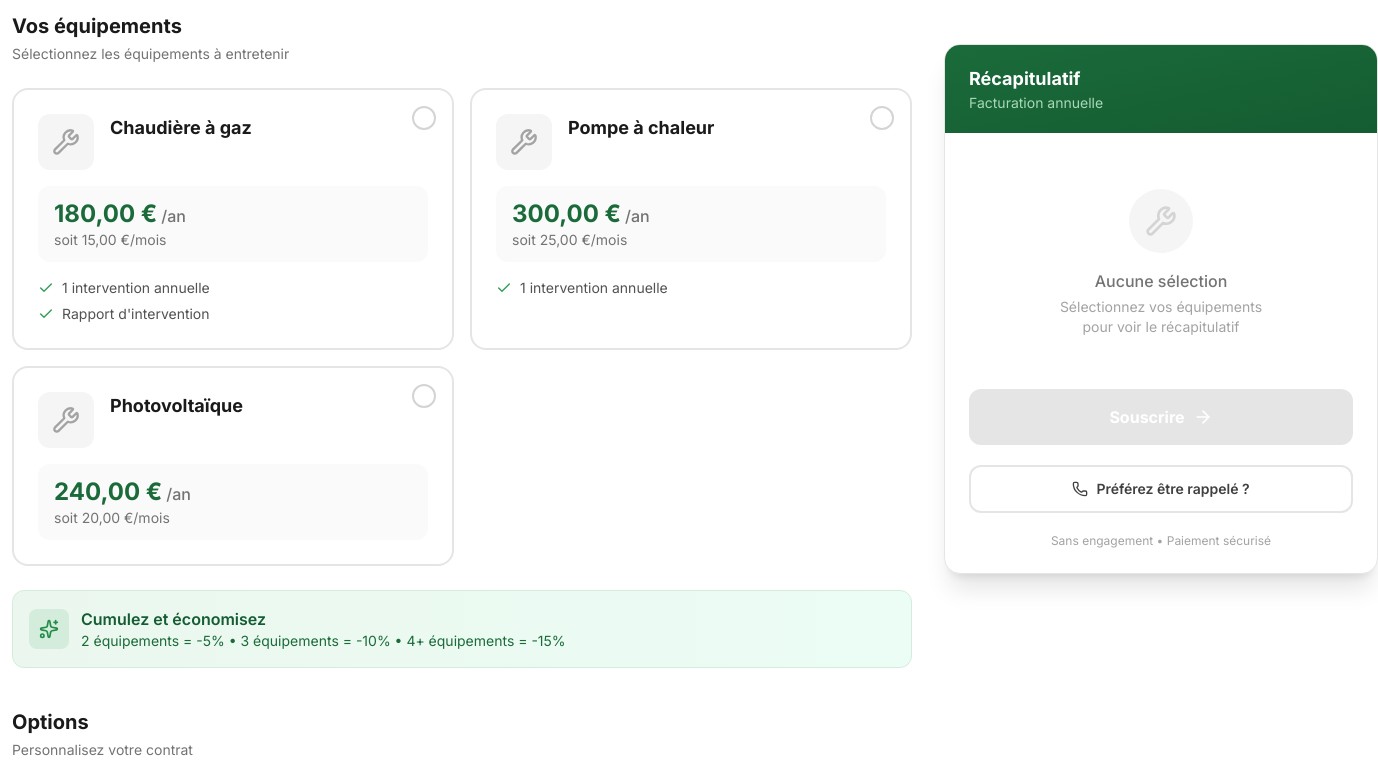
it: MaintenanceConfigurator › shows error message on checkout failure
The width and height of the screenshot is (1378, 780).
Click the heading "Chaudière à gaz" at x=181, y=128, box [110, 117, 252, 138]
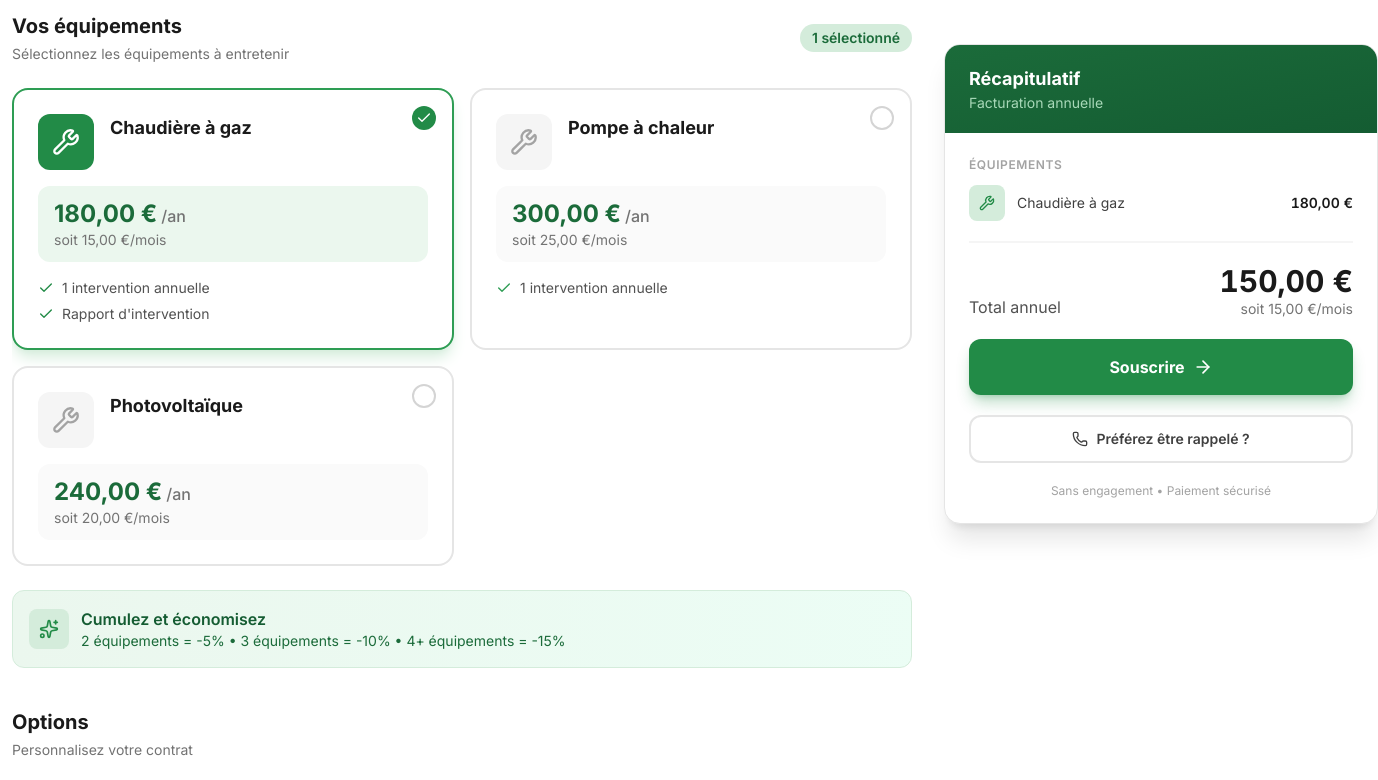
Click the button "Souscrire" at x=1161, y=367, box [969, 339, 1353, 395]
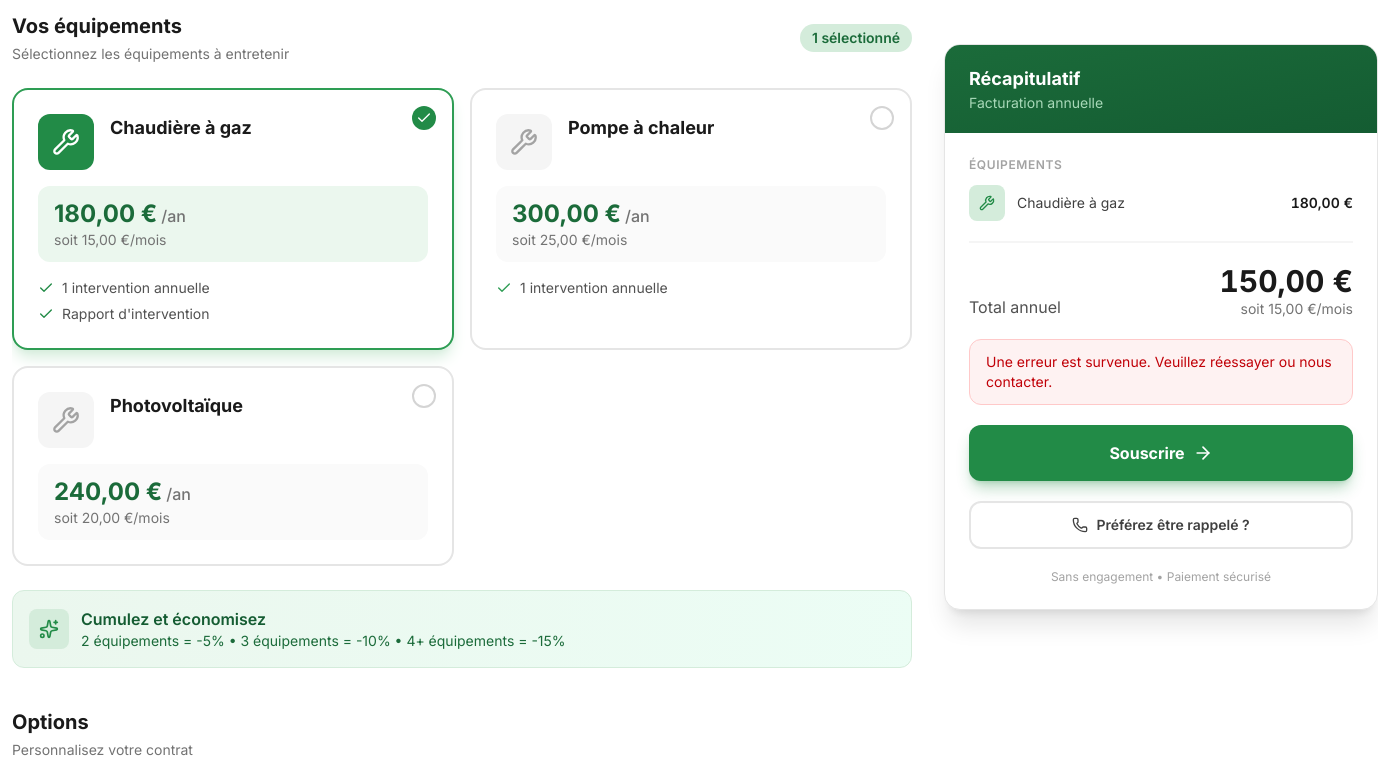
expect the text "Une erreur est survenue" is shown: met, box [986, 353, 1332, 390]
